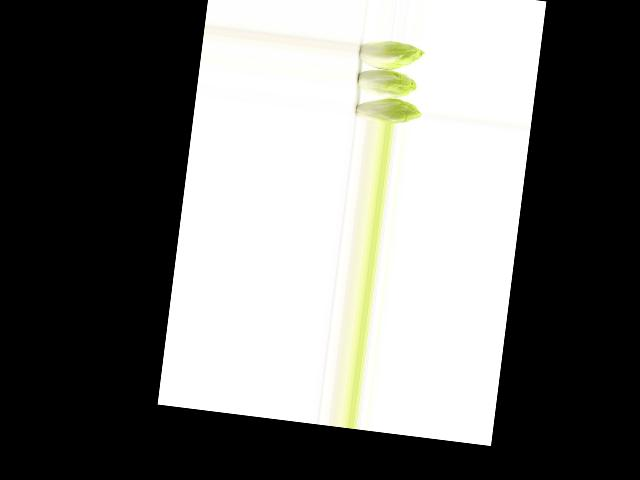lettuce: (355, 36, 426, 73)
